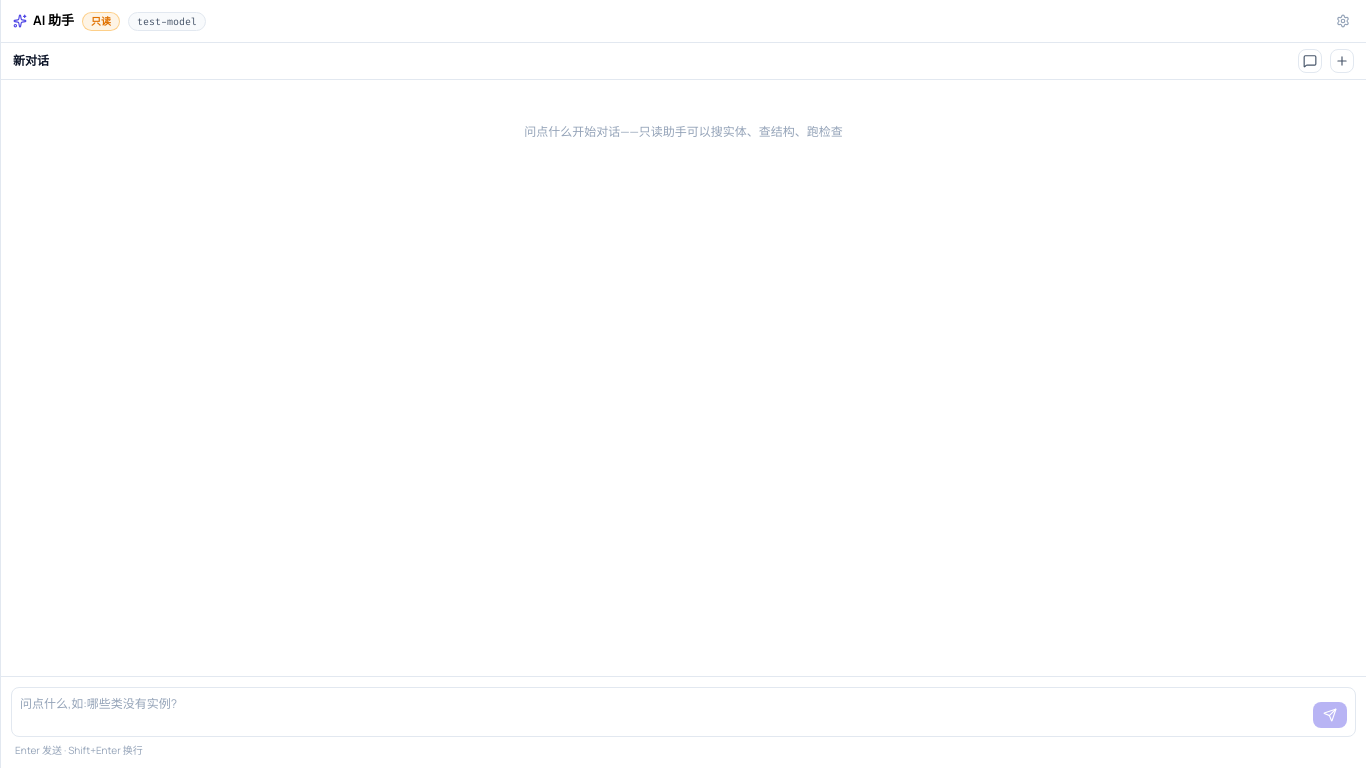
Test case: AiChatDrawer › streams a conversation: deltas concat, tool row expands, usage footer lands
This screenshot has width=1366, height=768.
Expected: the text "AI 助手" is shown, [13,11,74,31]
Type "介绍一下" into the text box with placeholder "问点什么,如:哪些类没有实例?". click: [662, 712]
box: [20,696,1305,728]
Then press Enter
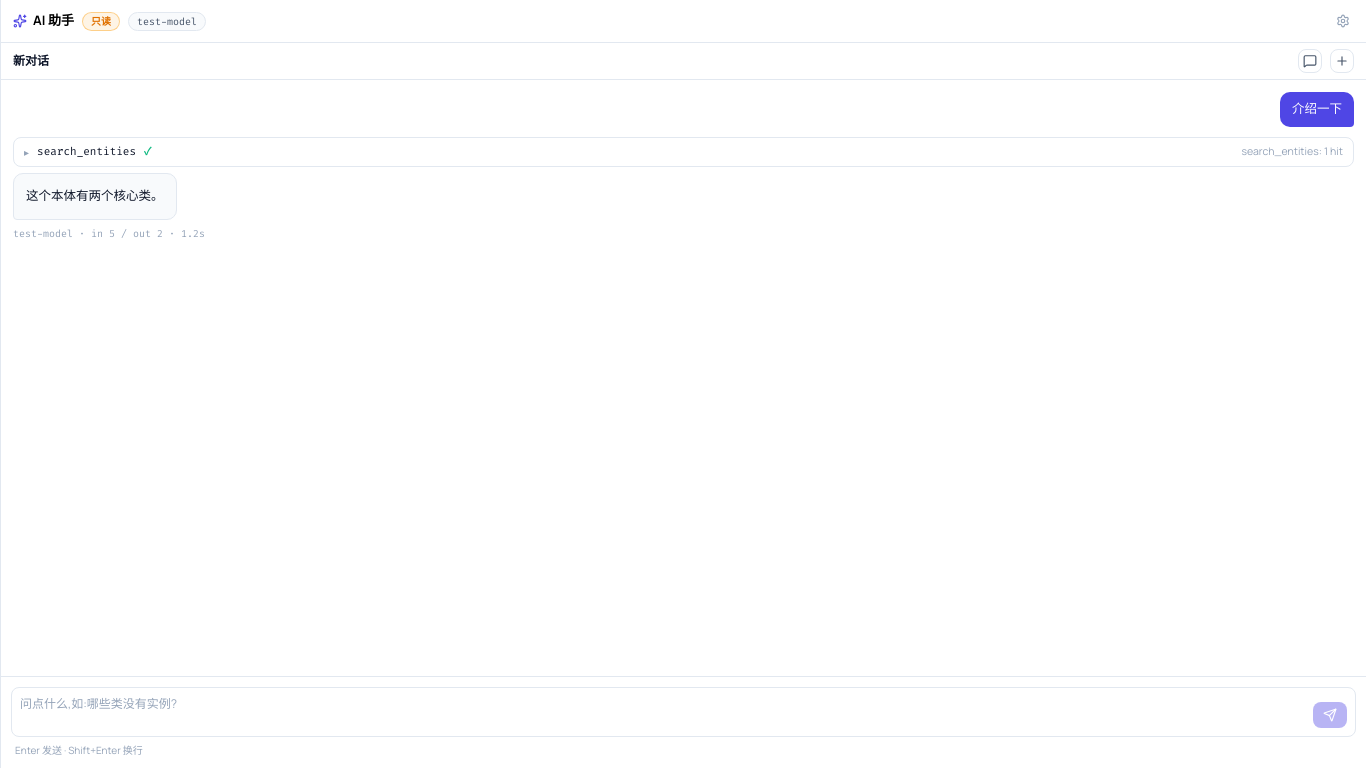
Expected: the text "这个本体有两个核心类。" is shown, [26,186,164,207]
Expected: the button "▸ search_entities ✓ search_entities: 1 hit" is shown
Click the button "▸ search_entities ✓ search_entities: 1 hit". click: [87, 151]
box: [14,138,1353,166]
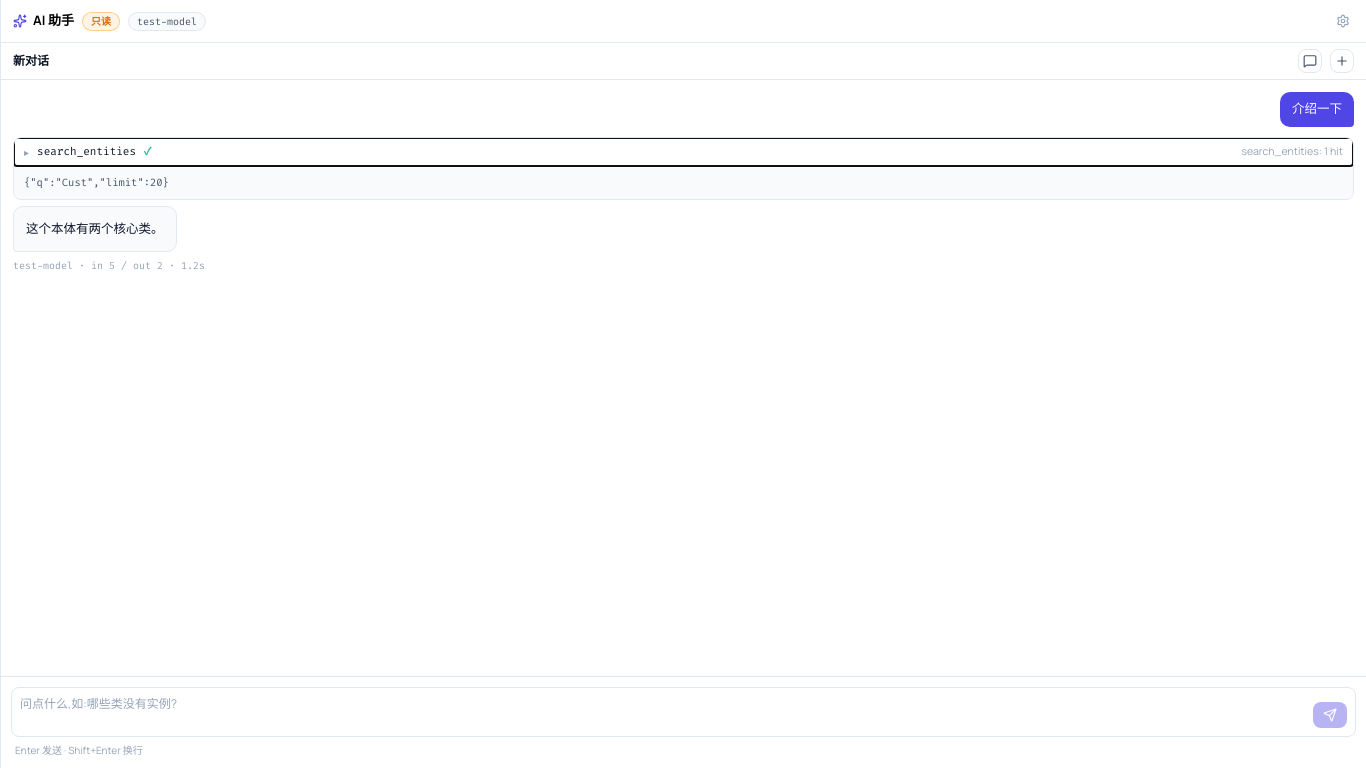
Expected: the text "test-model · in 5 / out 2 · 1.2s" is shown, [13,258,205,273]
Expected: the text "{\"q\":\"Cust\",\"limit\":20}" is shown, [14,166,1353,199]
